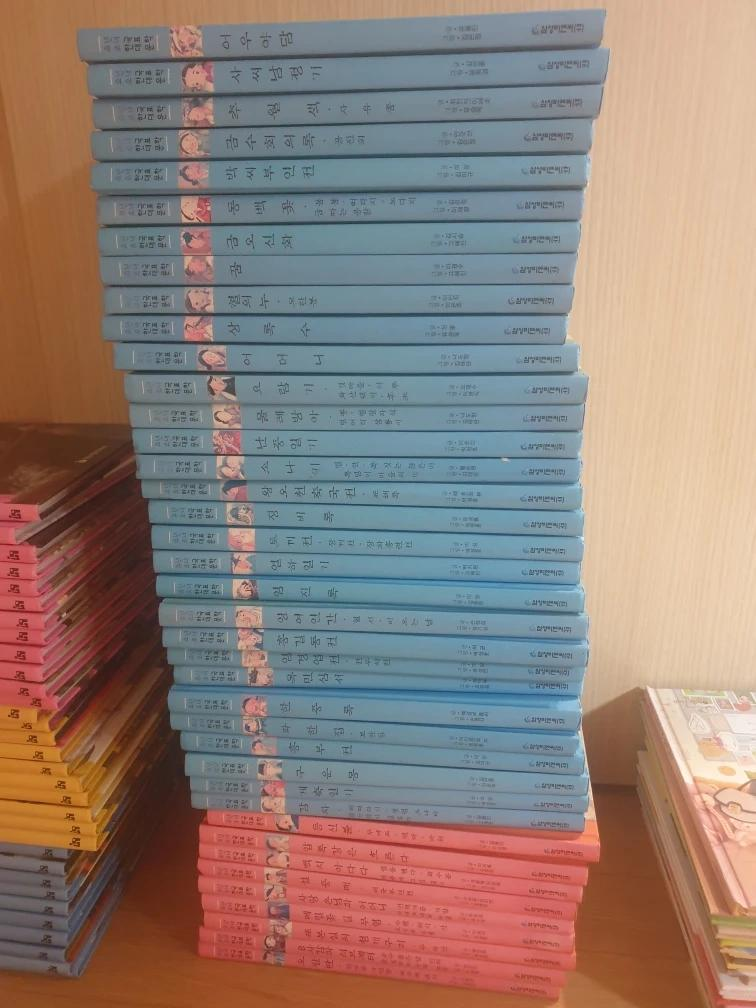book: (77, 10, 608, 1000)
